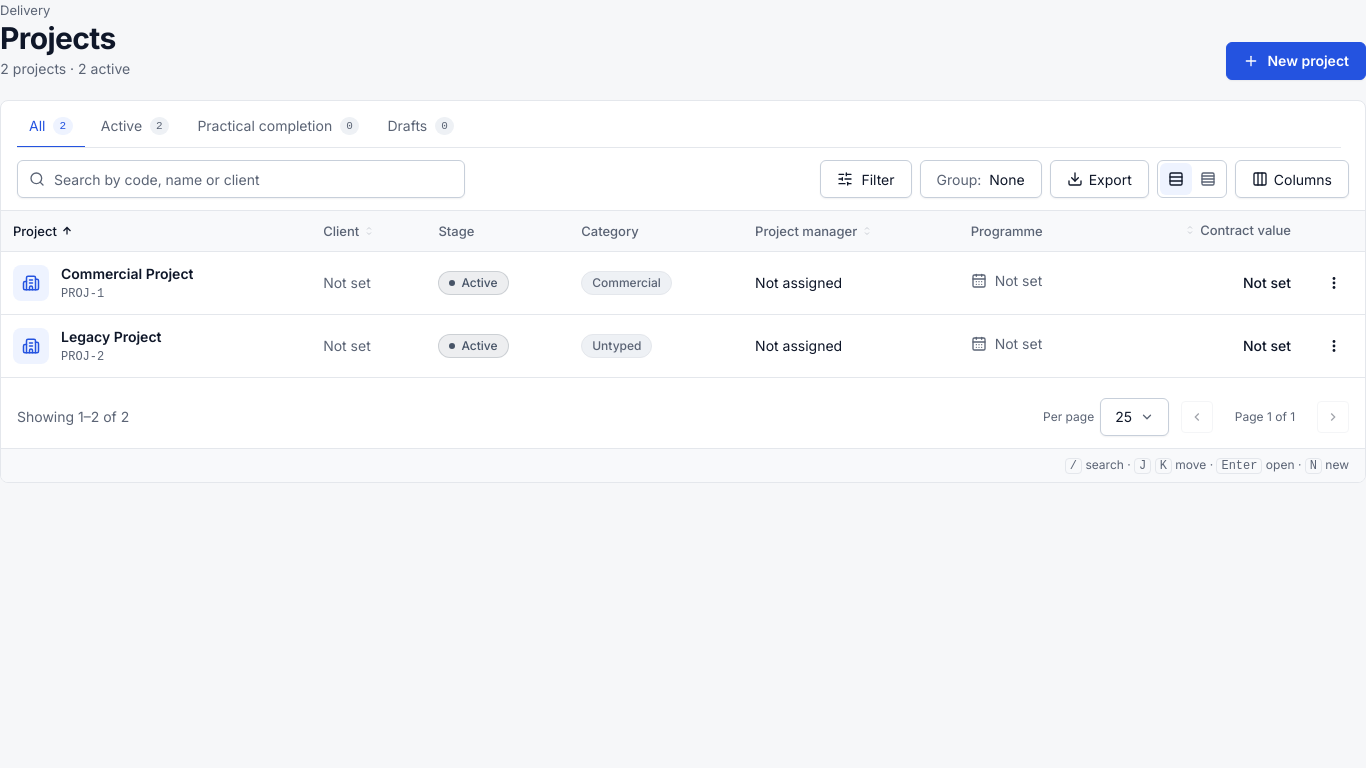
Test case: ProjectsList › filters by category, and shows Untyped for legacy projects (PTD1-PTD5)
Check: the link "Commercial Project PROJ-1" is shown, box [13, 264, 194, 300]
Click the button "Filter" at [866, 179], box [820, 160, 912, 198]
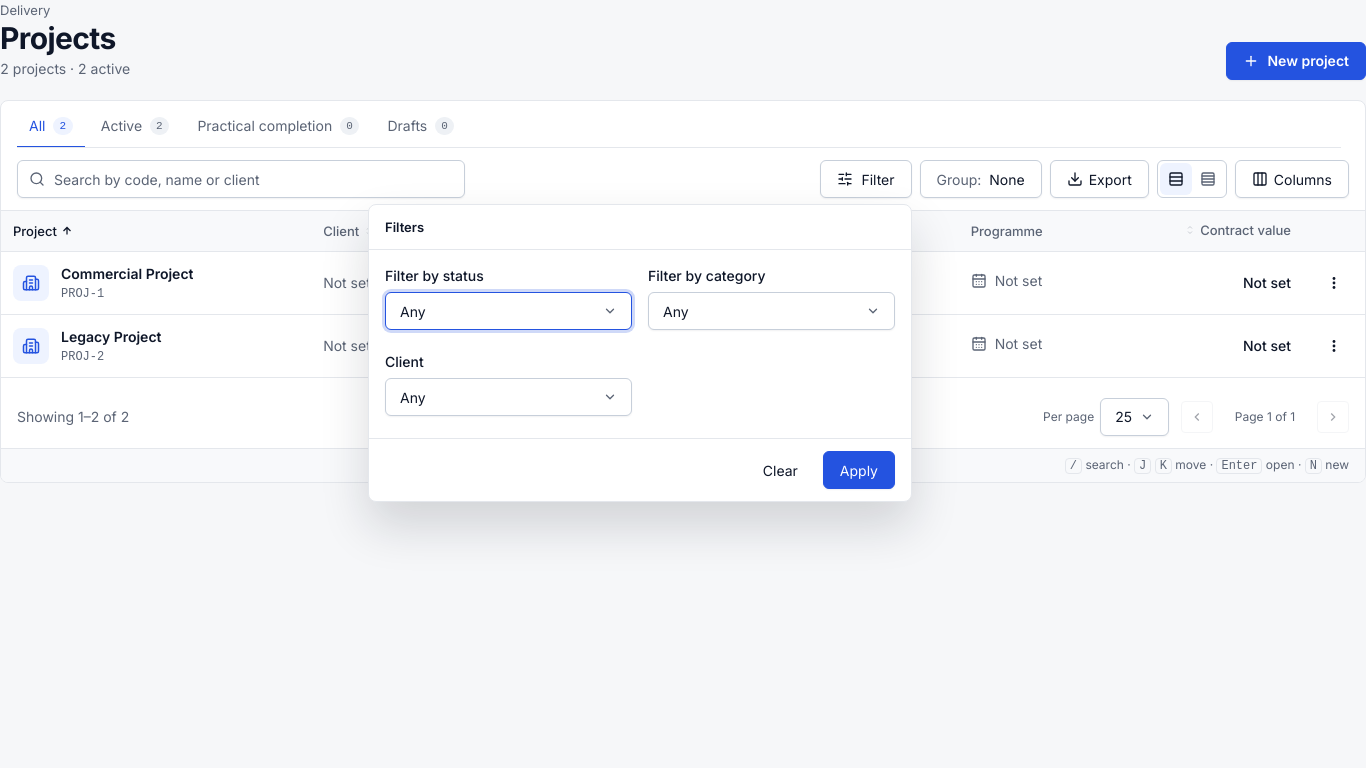
Click the dropdown named "Filter by category" at [772, 311], box [648, 292, 895, 330]
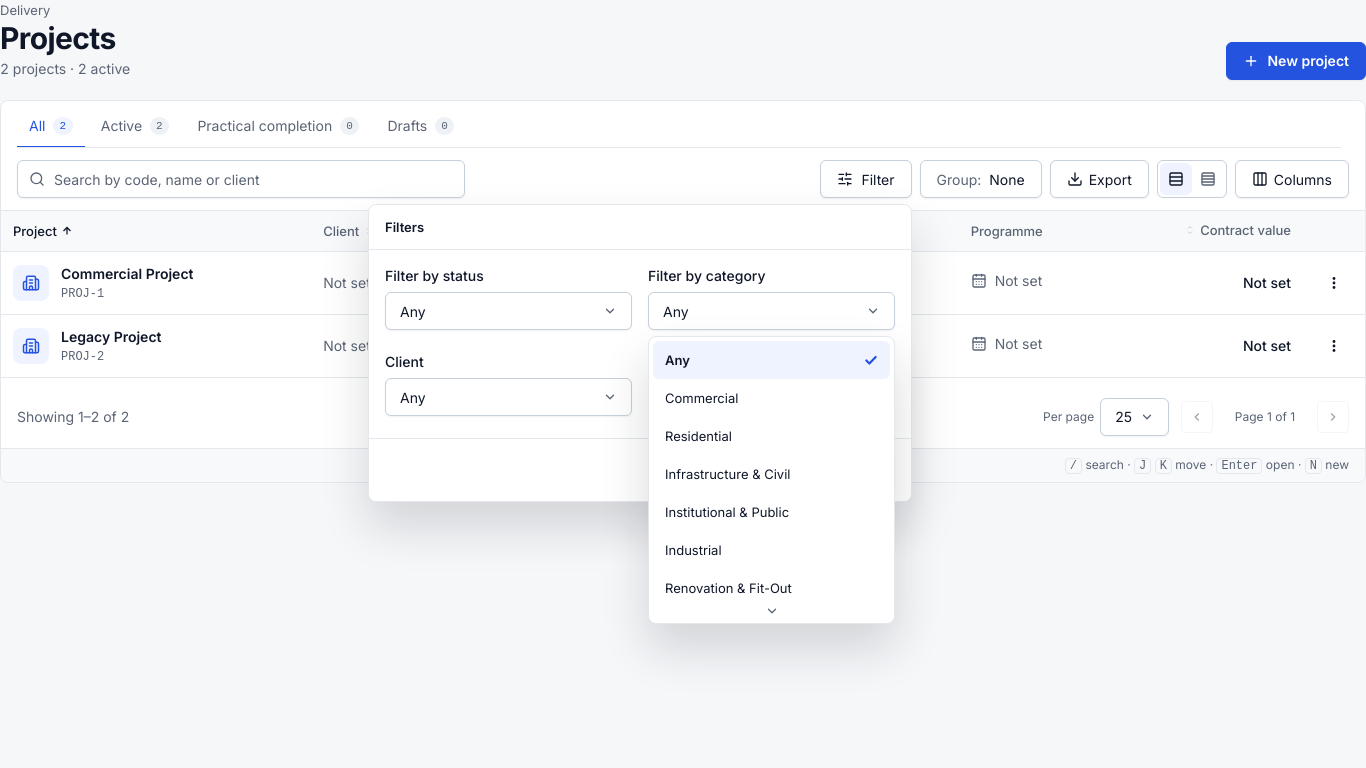
Click the option "Commercial" at [702, 398], box [665, 390, 738, 406]
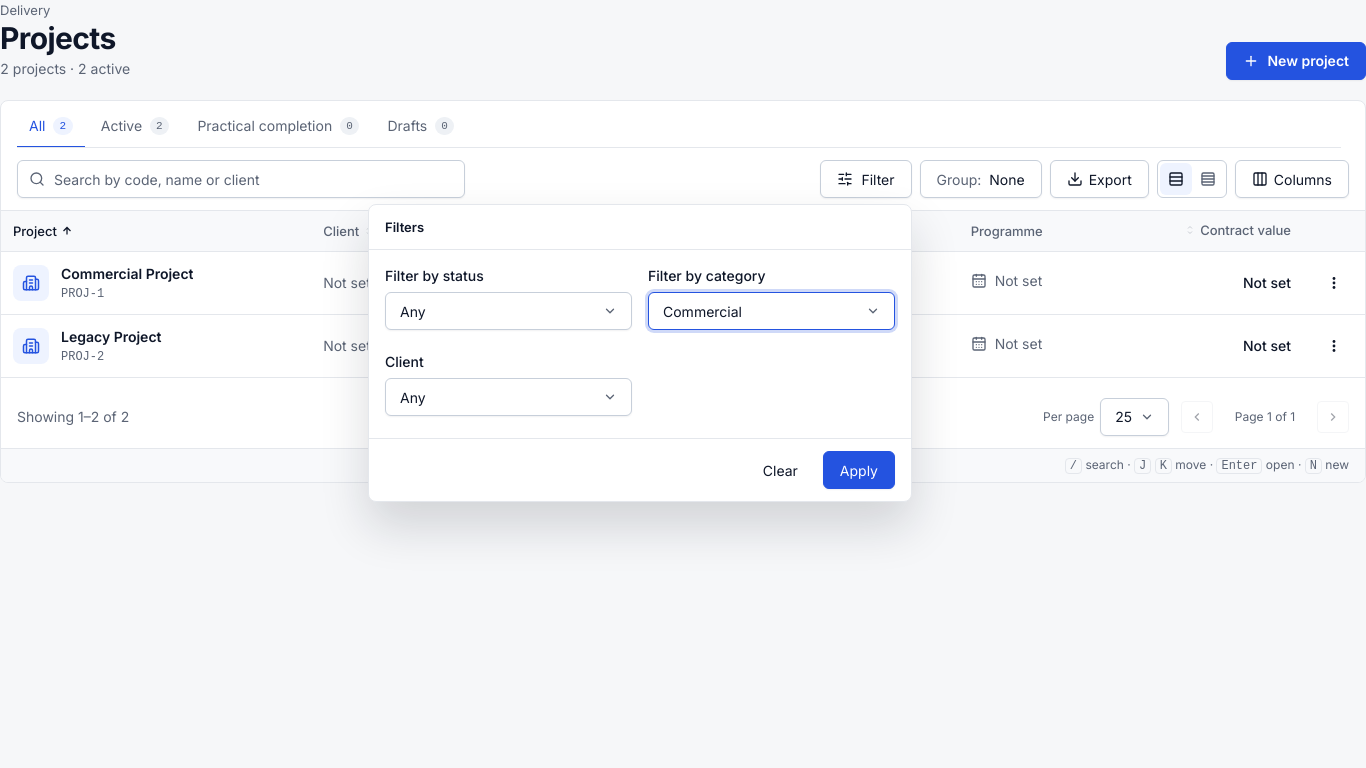
Click the button "Apply" at [859, 470], box [823, 451, 895, 489]
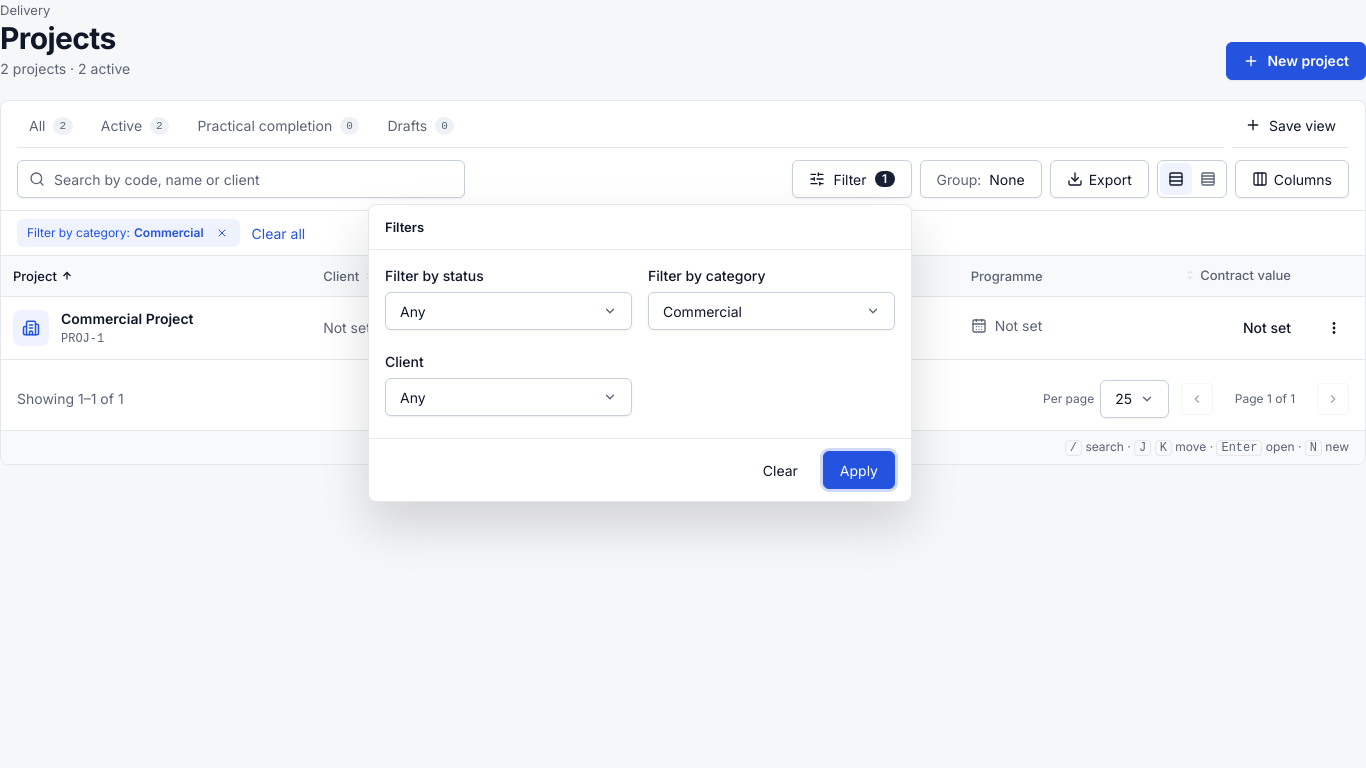
Check: the link "Commercial Project PROJ-1" is shown, box [13, 310, 194, 346]
Check: no links "Legacy Project" are shown
